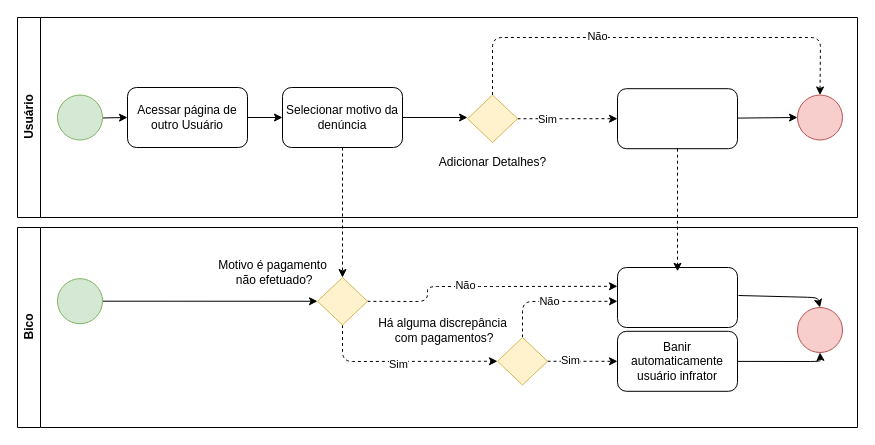
Some shapes in this 875 by 445 pixel diagram are drawn without their labels. Each missing label, with the box of its shape:
Apurar informações: (616, 266, 738, 328)
Inserir Detalhes: (616, 88, 738, 149)
